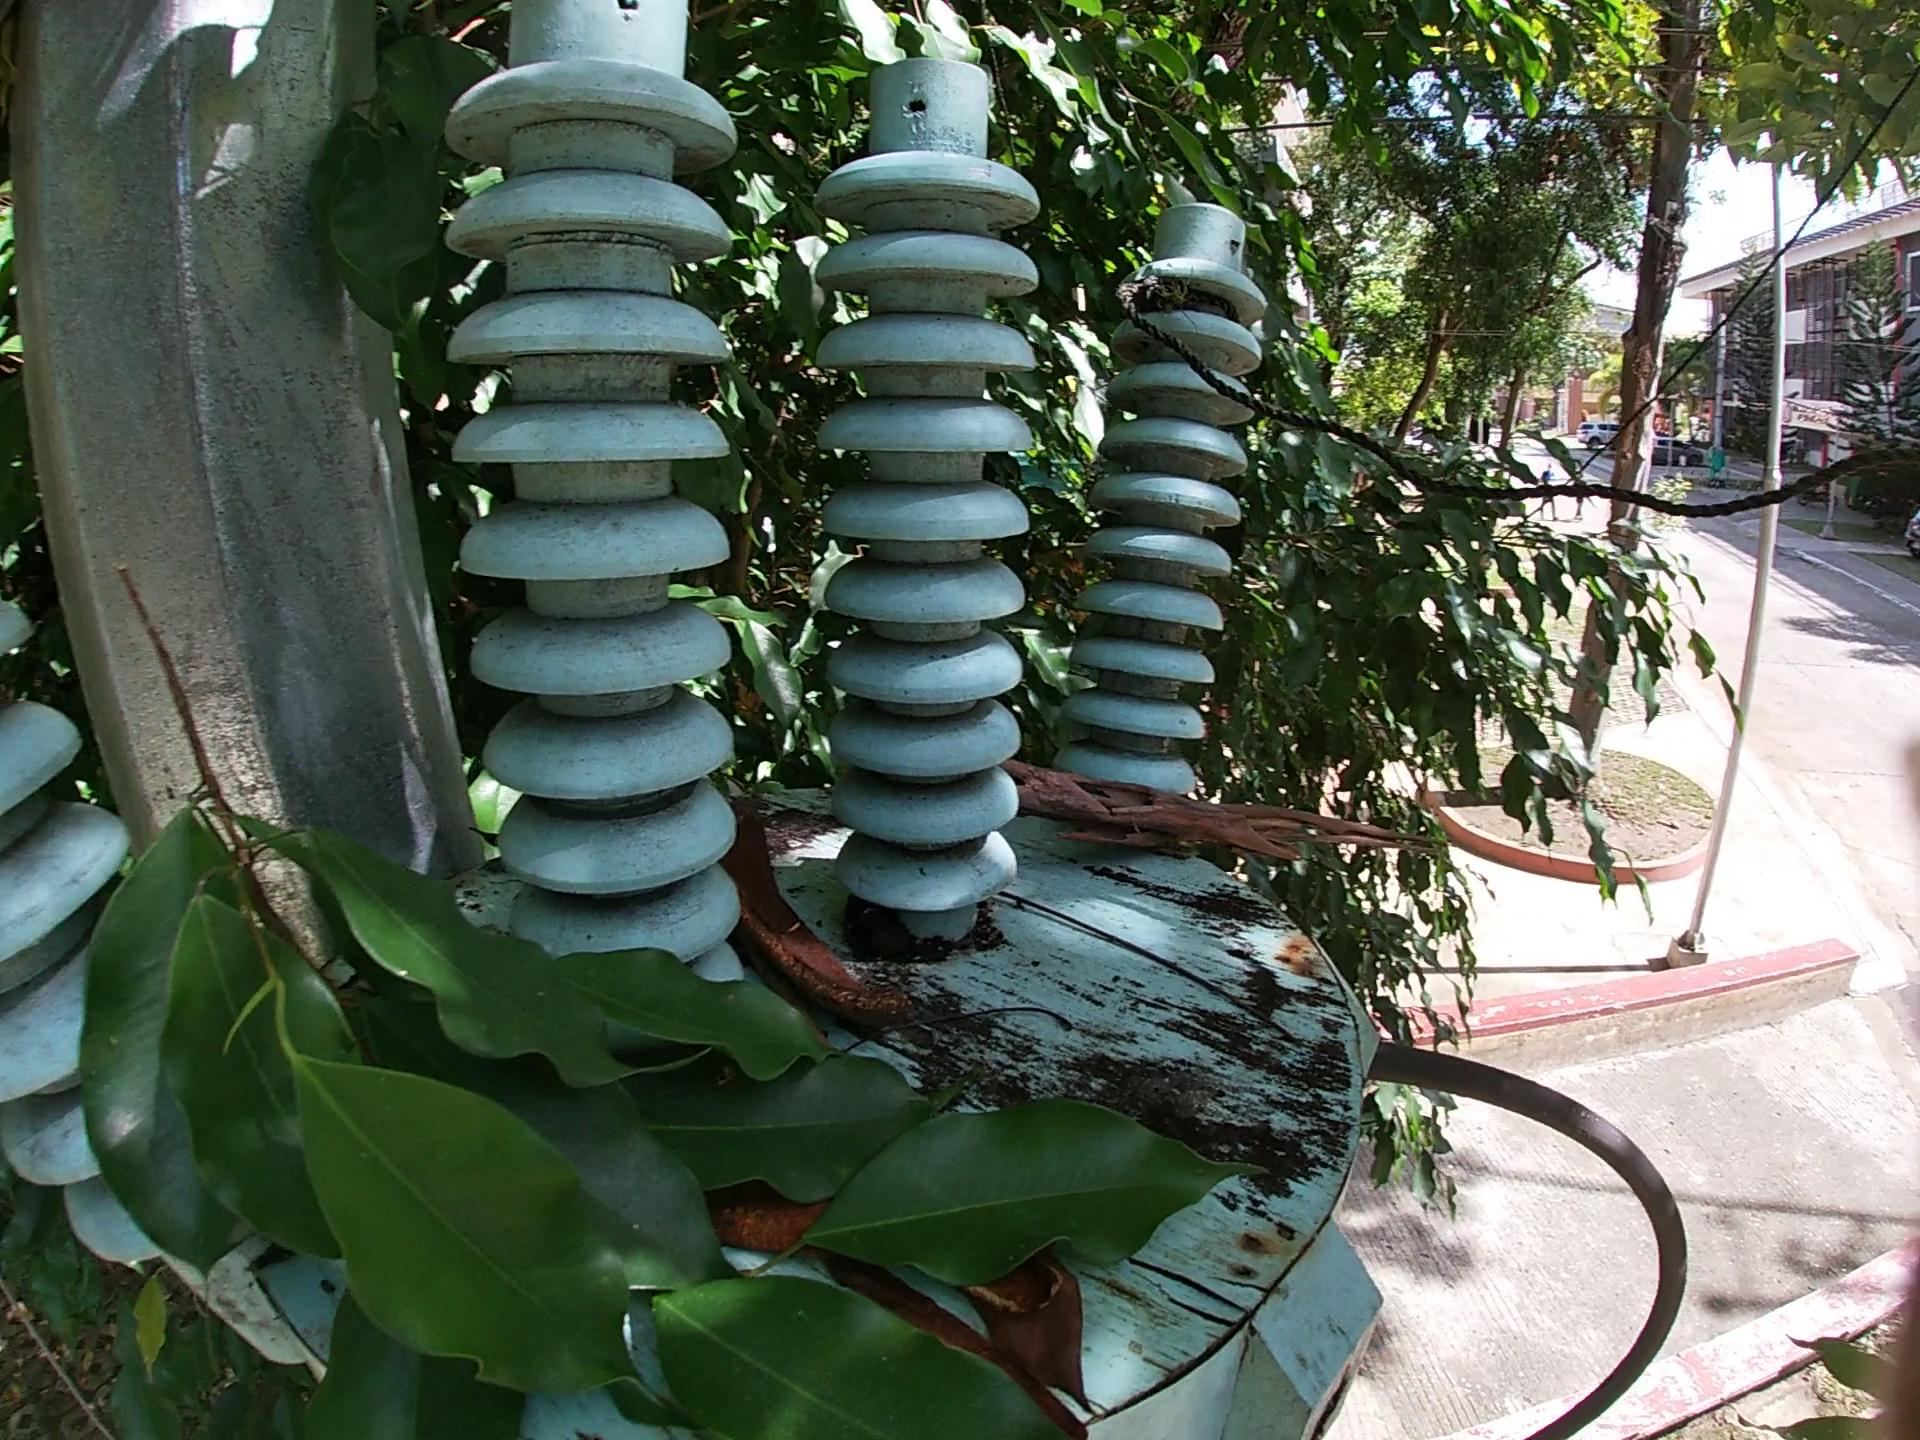branch with leaves: (76, 545, 1342, 1438)
mahogany fruit: (714, 1198, 1175, 1435), (709, 784, 881, 1038)
tree branch: (995, 749, 1453, 898), (980, 879, 1332, 1071)
